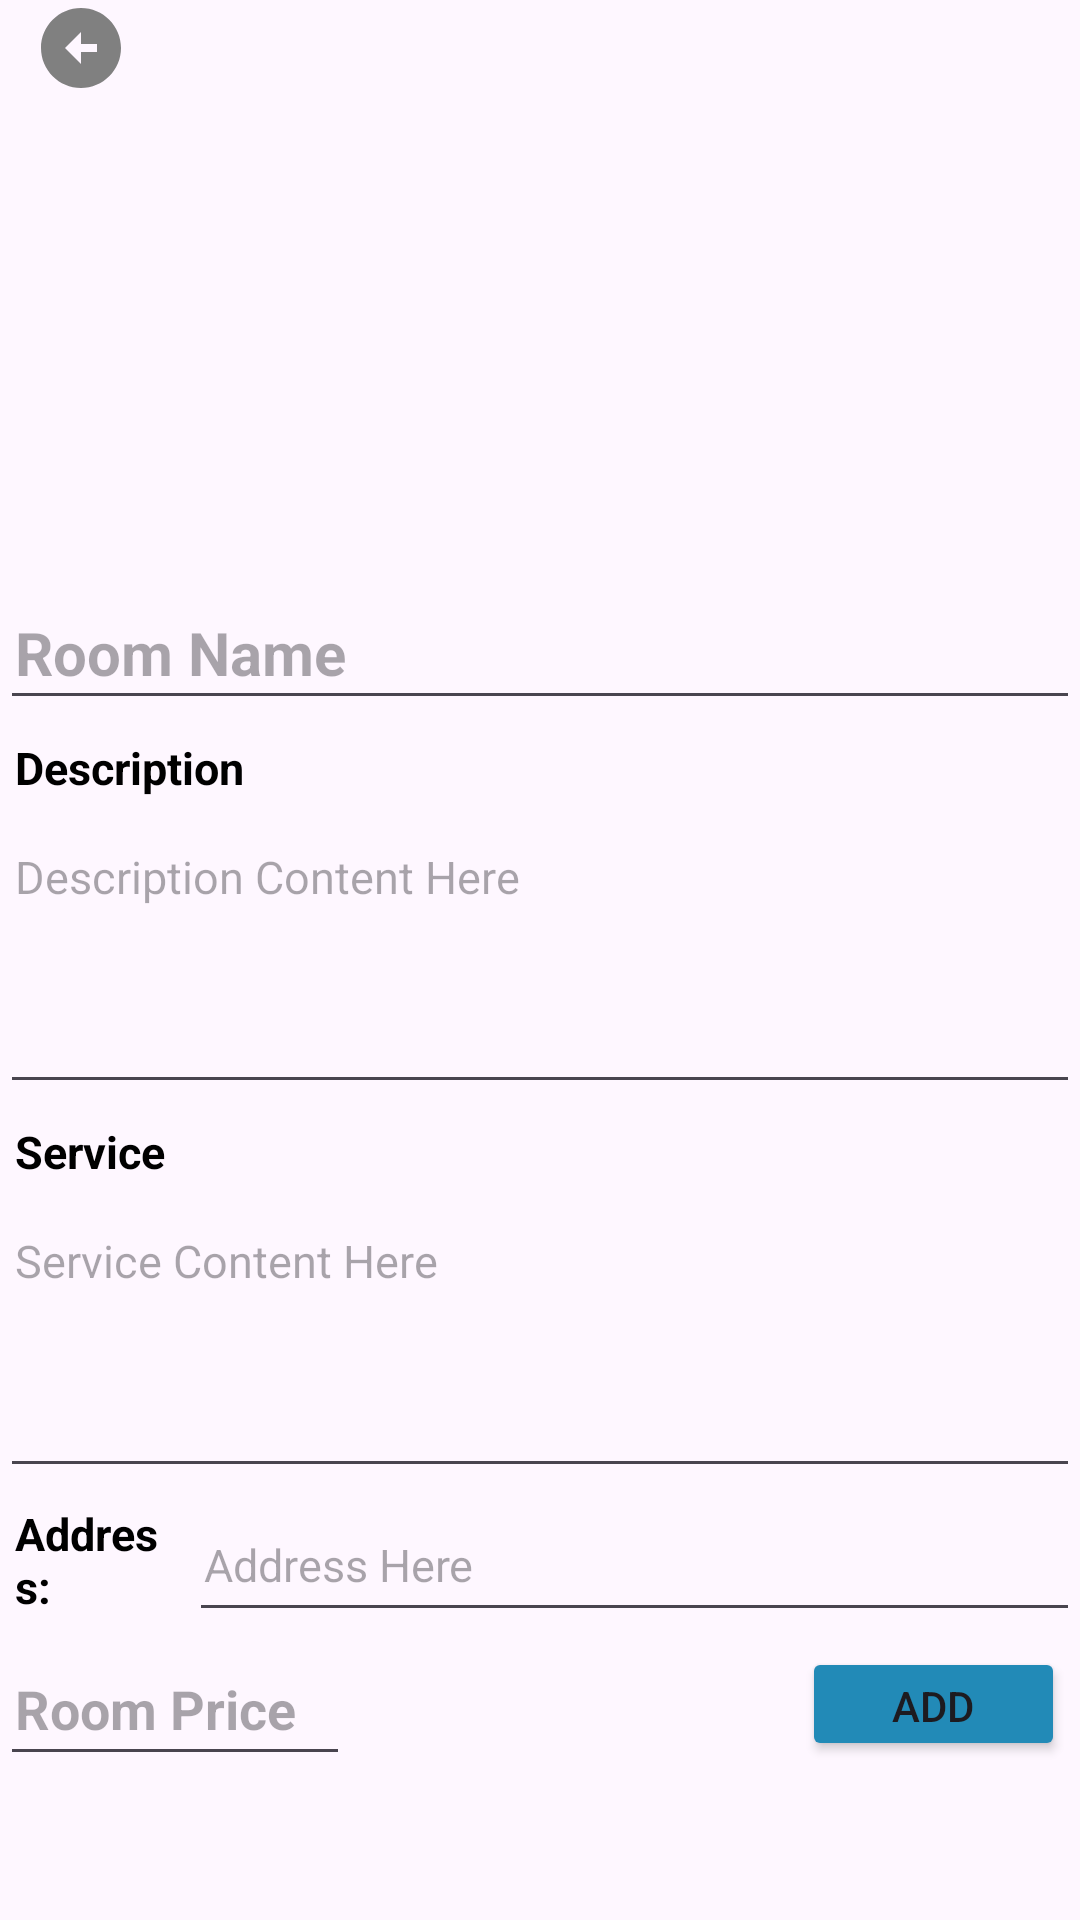

Icon bounding boxes for this 1080px x 1920px phone screenshot, format (x1, y1, x2, y2):
back: (41, 8, 121, 88)
